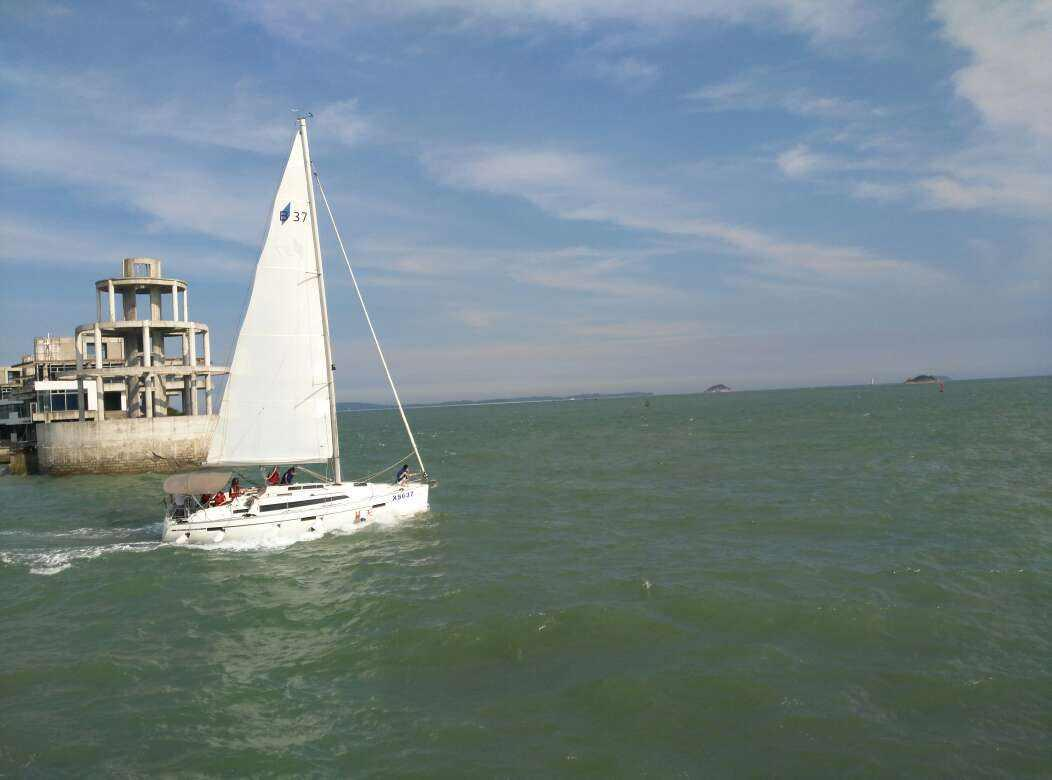fanchuan: (154, 102, 435, 548)
